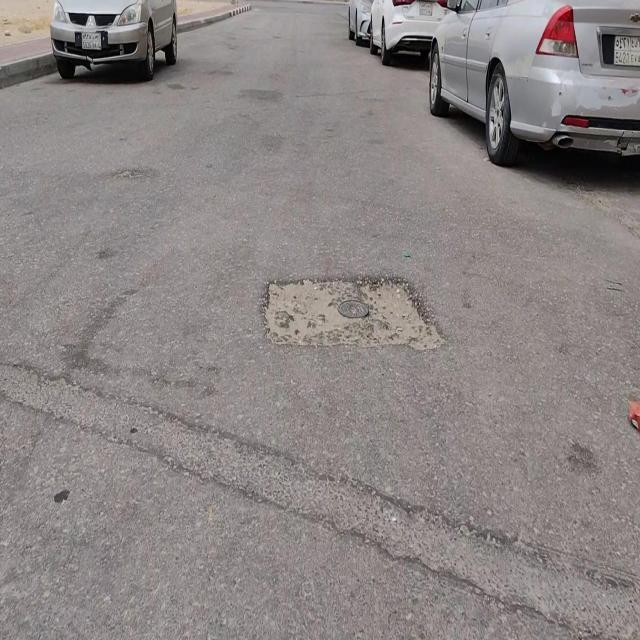Pothole: (264, 277, 432, 351)
